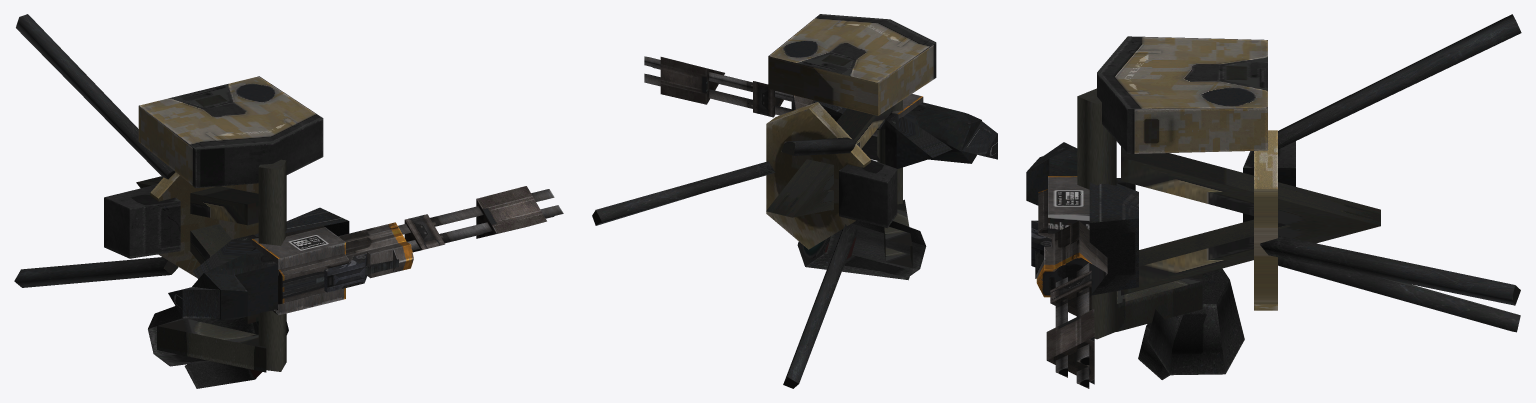
Rendered from t6_wpn_turret_sentry_gun_red_LOD2.obj.
3 views of the same model, side by side, from view 1: azimuth 30°, elevation 25°; view 2: azimuth 150°, elevation 25°; view 3: azimuth 270°, elevation 25° (orthographic). The views are drawn at different scales.
Visible parts, largest first — view 1: mtl_t6_wpn_turret_sentry_gun_base_red, mtl_t6_wpn_turret_minigun_red; view 2: mtl_t6_wpn_turret_sentry_gun_base_red, mtl_t6_wpn_turret_minigun_red; view 3: mtl_t6_wpn_turret_sentry_gun_base_red, mtl_t6_wpn_turret_minigun_red.
Boxes of the visible parts, bbox=[...] form: mtl_t6_wpn_turret_sentry_gun_base_red: bbox=[14, 14, 323, 388]; mtl_t6_wpn_turret_minigun_red: bbox=[168, 186, 563, 319]; mtl_t6_wpn_turret_sentry_gun_base_red: bbox=[592, 14, 936, 388]; mtl_t6_wpn_turret_minigun_red: bbox=[644, 56, 997, 168]; mtl_t6_wpn_turret_sentry_gun_base_red: bbox=[1077, 14, 1521, 379]; mtl_t6_wpn_turret_minigun_red: bbox=[1026, 142, 1138, 388].
Size of the model in its own units: 147 by 102 by 144.
